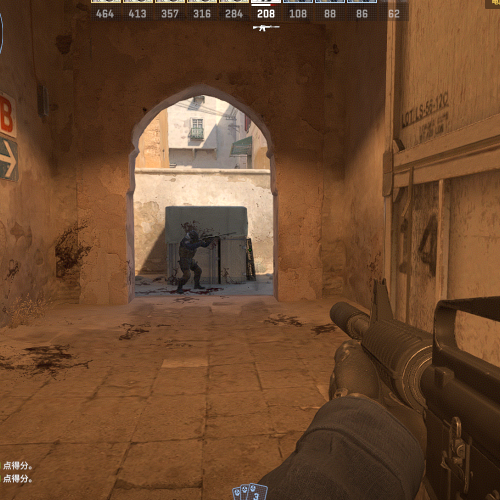ct_body: (177, 228, 206, 294)
ct_head: (188, 230, 200, 243)
